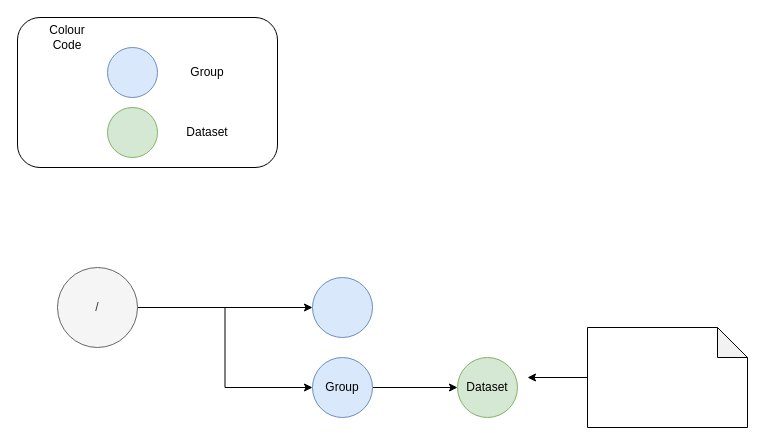
Some shapes in this 765 by 445 pixel diagram are drawn without their labels. The centre of each missing label's shape, as x and y in pixels:
"1D/2D/MultiDimensional array" goes at point 667,377.
"Header" goes at point 342,307.
